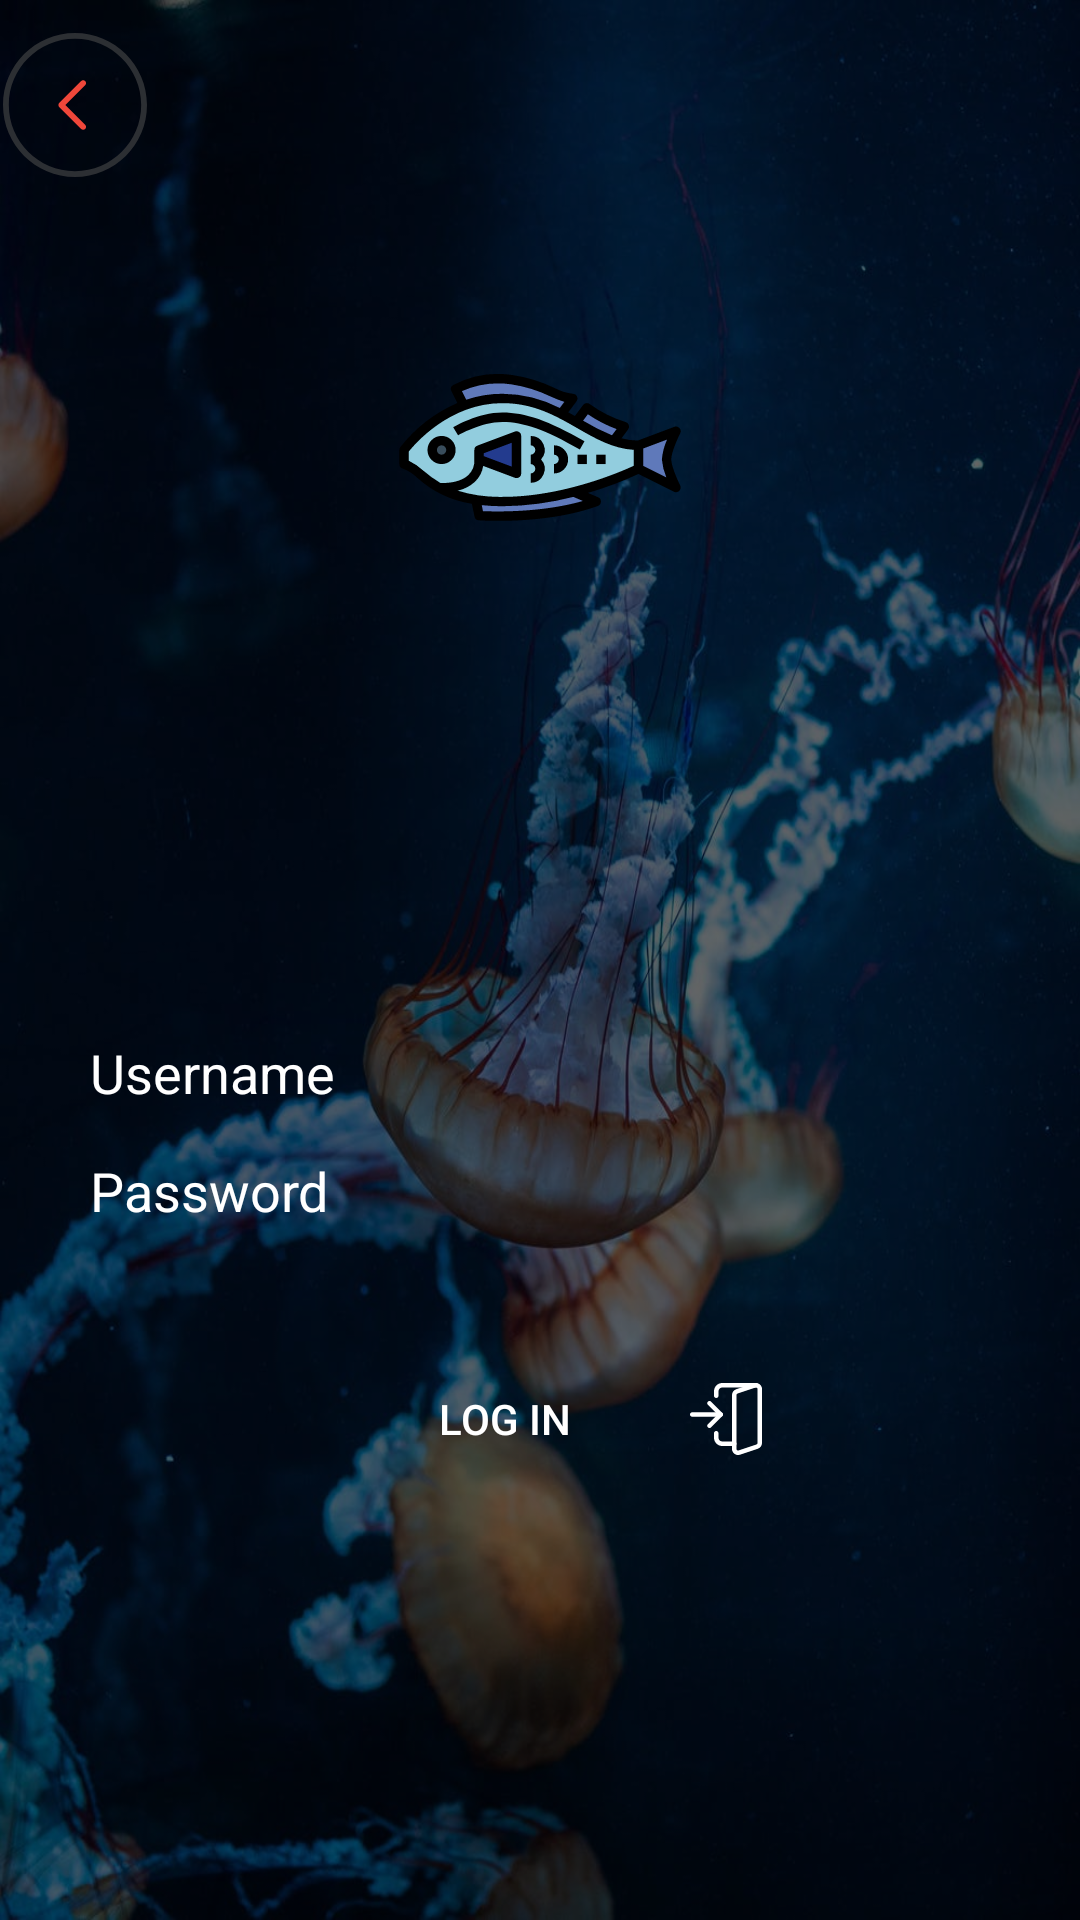

Named icons in this screenshot (1080w x 1920h) and their centers, (x,y):
back: (75,105)
fish: (540,450)
